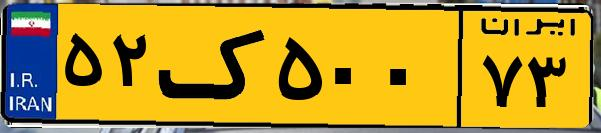0: (385, 28, 445, 110), (330, 28, 385, 110)
2: (110, 28, 158, 98)
3: (525, 38, 570, 115)
5: (270, 28, 330, 110), (57, 26, 110, 100)
7: (475, 38, 525, 113)
ک: (158, 12, 270, 120)
